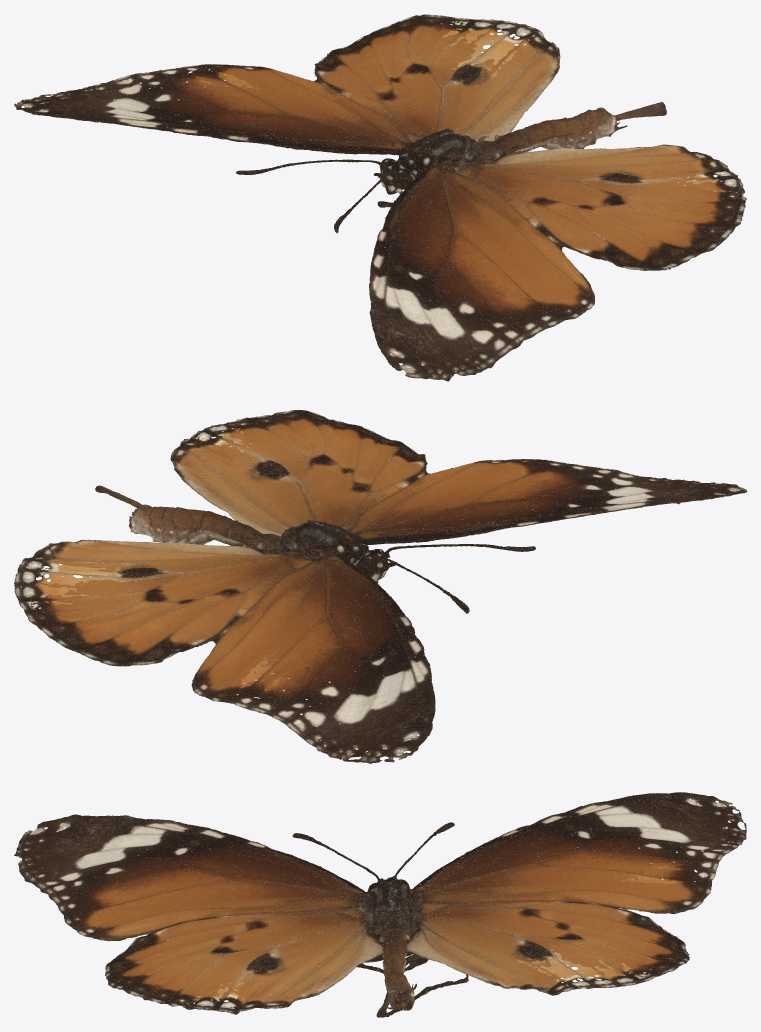
The model's file is danaus_chrysippus.glb.
The picture shows the model from 3 angles, top to bottom: view 1: azimuth 30°, elevation 25°; view 2: azimuth 150°, elevation 25°; view 3: azimuth 270°, elevation 25°; orthographic projection. The views are drawn at different scales.
Parts seen in each view (by area): view 1: Object_17, Object_5, Object_4, Object_11, Object_12, Object_22, Object_13, Object_7, Object_8, Object_25, Object_15, Object_6 (+15 smaller); view 2: Object_5, Object_17, Object_4, Object_11, Object_22, Object_12, Object_13, Object_8, Object_7, Object_25, Object_6, Object_15 (+15 smaller); view 3: Object_5, Object_17, Object_4, Object_11, Object_12, Object_22, Object_8, Object_13, Object_7, Object_6, Object_25, Object_15 (+15 smaller).
Part boxes in pixels (x1=…): Object_17: x1=23, y1=16, x2=744, y2=378; Object_5: x1=16, y1=14, x2=745, y2=376; Object_4: x1=14, y1=14, x2=745, y2=379; Object_11: x1=17, y1=15, x2=744, y2=380; Object_12: x1=19, y1=15, x2=743, y2=379; Object_22: x1=15, y1=16, x2=745, y2=381; Object_13: x1=20, y1=15, x2=745, y2=376; Object_7: x1=16, y1=15, x2=745, y2=379; Object_8: x1=17, y1=15, x2=745, y2=379; Object_25: x1=20, y1=15, x2=744, y2=379; Object_15: x1=17, y1=15, x2=746, y2=379; Object_6: x1=21, y1=15, x2=743, y2=379; Object_5: x1=14, y1=410, x2=740, y2=762; Object_17: x1=19, y1=410, x2=738, y2=762; Object_4: x1=15, y1=410, x2=745, y2=762; Object_11: x1=15, y1=410, x2=743, y2=762; Object_22: x1=14, y1=411, x2=746, y2=762; Object_12: x1=15, y1=410, x2=743, y2=762; Object_13: x1=15, y1=410, x2=741, y2=762; Object_8: x1=15, y1=410, x2=739, y2=762; Object_7: x1=15, y1=411, x2=745, y2=761; Object_25: x1=15, y1=410, x2=745, y2=762; Object_6: x1=16, y1=410, x2=741, y2=761; Object_15: x1=17, y1=413, x2=743, y2=762; Object_5: x1=19, y1=792, x2=746, y2=1016; Object_17: x1=20, y1=792, x2=746, y2=1017; Object_4: x1=16, y1=792, x2=746, y2=1016; Object_11: x1=16, y1=792, x2=746, y2=1016; Object_12: x1=18, y1=793, x2=746, y2=1016; Object_22: x1=14, y1=792, x2=745, y2=1016; Object_8: x1=16, y1=793, x2=744, y2=1016; Object_13: x1=20, y1=792, x2=746, y2=1016; Object_7: x1=17, y1=793, x2=746, y2=1014; Object_6: x1=16, y1=795, x2=745, y2=1017; Object_25: x1=16, y1=792, x2=740, y2=1016; Object_15: x1=19, y1=792, x2=745, y2=1016.
Size of the model in its own units: 11.09 by 2.53 by 15.13.
Materials: 3 (3 with a texture image).
